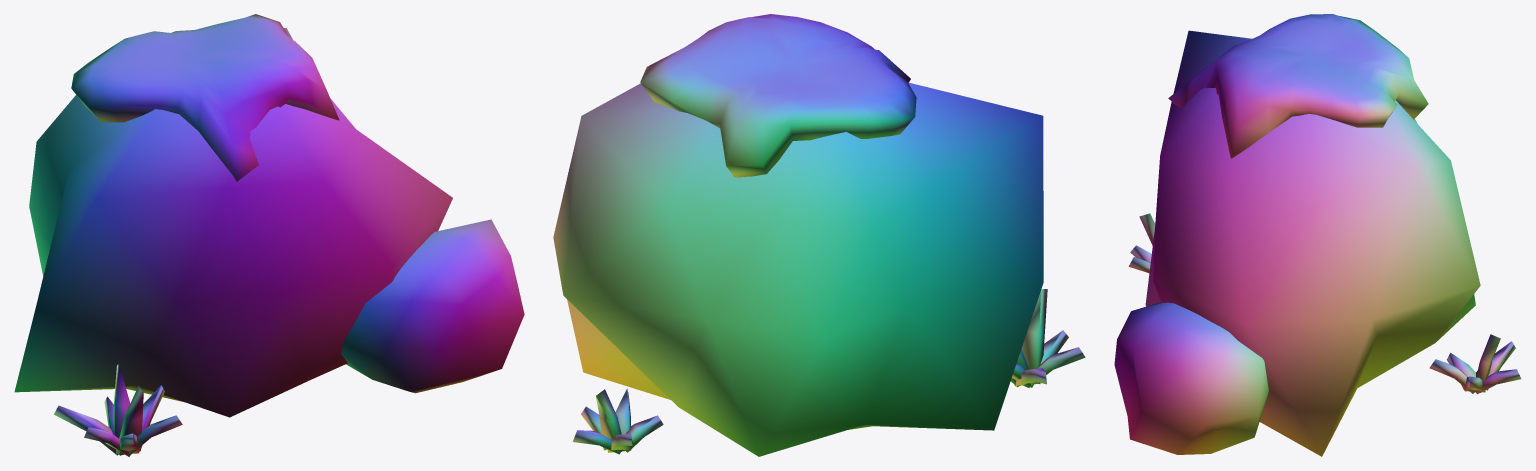
File: SM_Rock_Plains_MossBoulder_A.fbx
3 views of the same model, side by side, from view 1: azimuth 30°, elevation 25°; view 2: azimuth 150°, elevation 25°; view 3: azimuth 270°, elevation 25° (orthographic). The views are drawn at different scales.
Parts seen in each view (by area): view 1: SM_Rock_Plains_MossBoulder_A; view 2: SM_Rock_Plains_MossBoulder_A; view 3: SM_Rock_Plains_MossBoulder_A.
Part boxes in pixels (<box>): SM_Rock_Plains_MossBoulder_A: <box>14,14,524,456</box>; SM_Rock_Plains_MossBoulder_A: <box>553,14,1085,456</box>; SM_Rock_Plains_MossBoulder_A: <box>1114,14,1521,456</box>.
Size of the model in its own units: 1.59 by 1.09 by 1.26.
